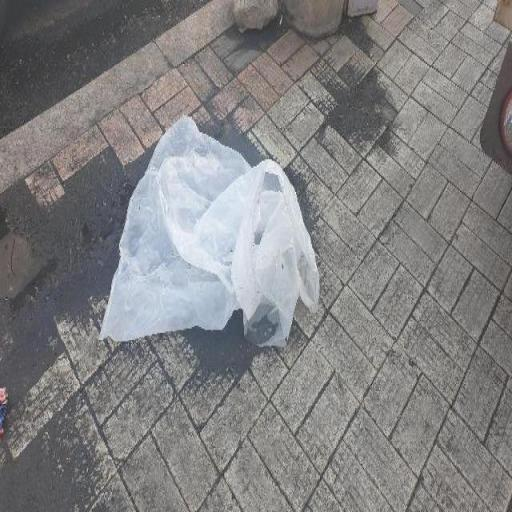plastic-bag: (96, 112, 322, 352)
